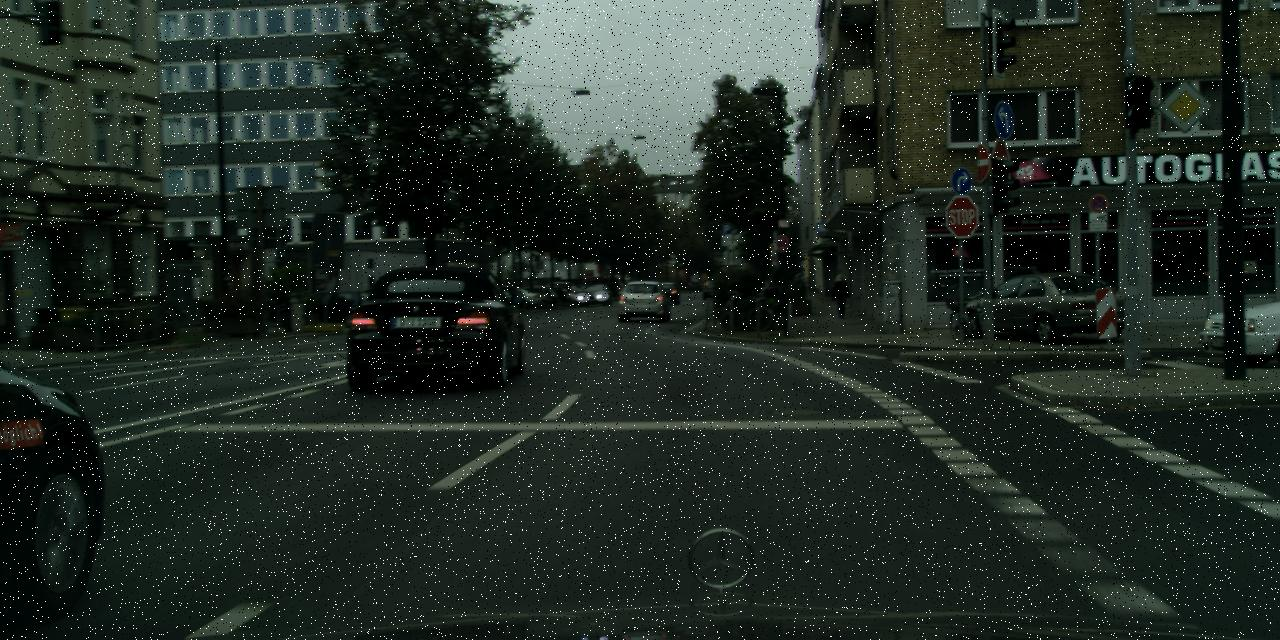ped: (831, 274, 850, 318)
